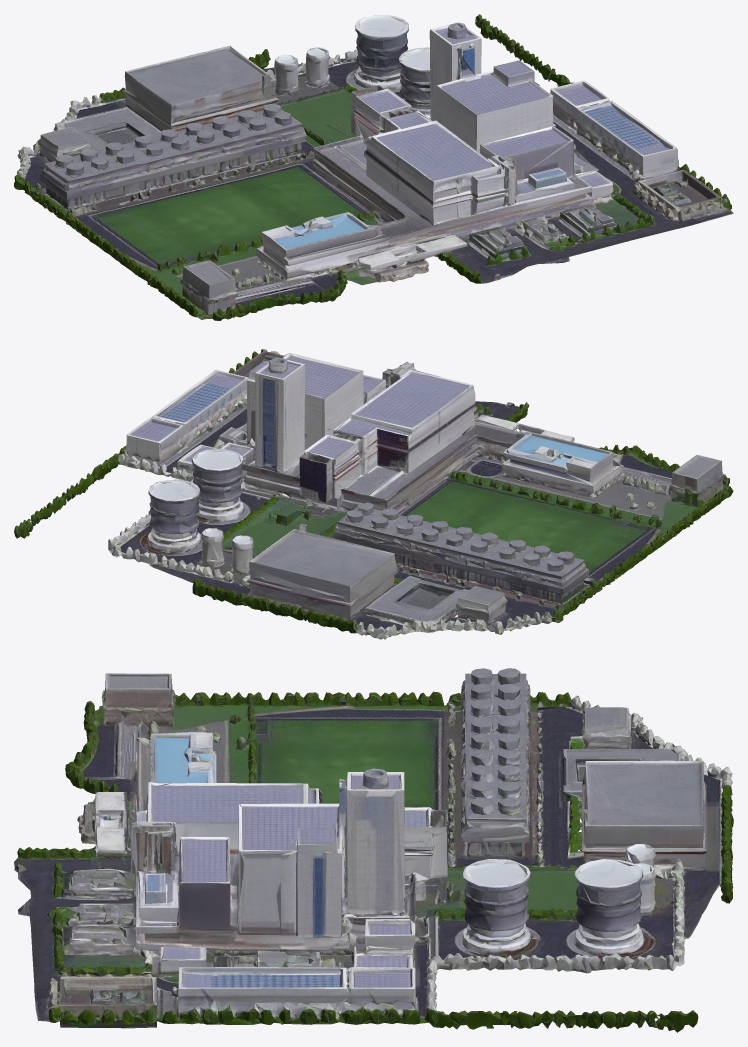
File: higgsfield_image_to_3d_web.glb
3 views of the same model, one above another, from view 1: azimuth 30°, elevation 25°; view 2: azimuth 150°, elevation 25°; view 3: azimuth 270°, elevation 25° (orthographic). The views are drawn at different scales.
Size of the model in its own units: 1.73 by 0.4217 by 1.63.
Materials: 1 (1 with a texture image).
